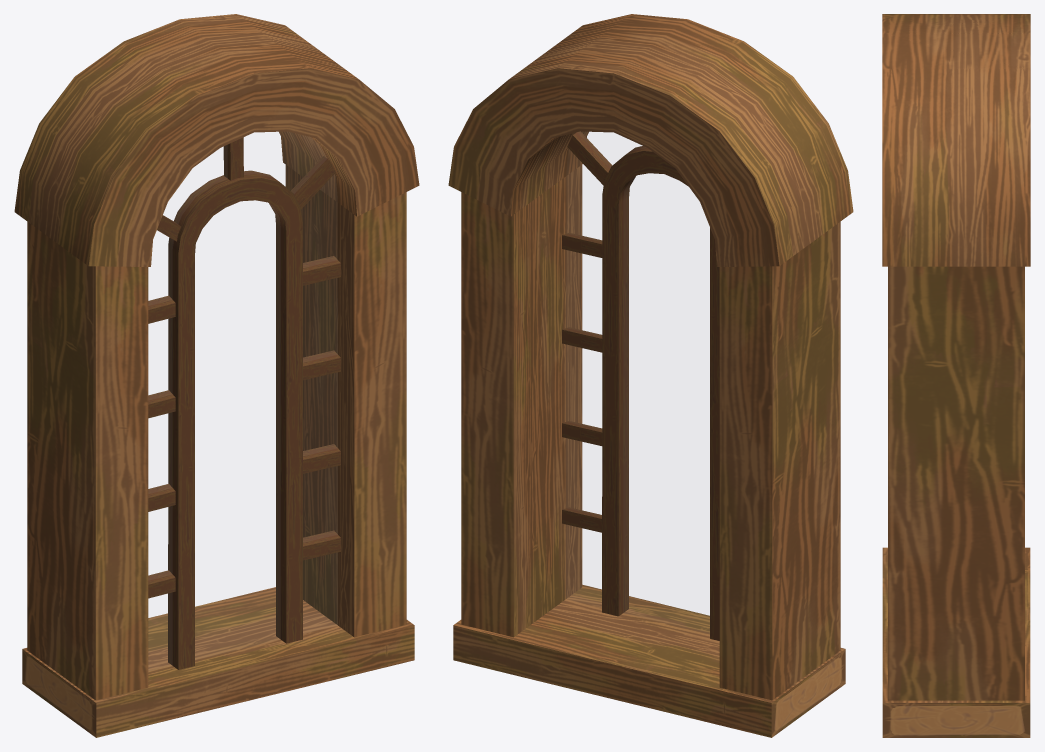
Rendered from Window_Thin_Round1.obj.
The picture shows the model from 3 angles, left to right: view 1: azimuth 30°, elevation 25°; view 2: azimuth 150°, elevation 25°; view 3: azimuth 270°, elevation 25°; orthographic projection.
Visible parts, largest first — view 1: Window_Thin_Round1; view 2: Window_Thin_Round1; view 3: Window_Thin_Round1.
Boxes of the visible parts, x1=… form: Window_Thin_Round1: x1=14, y1=14, x2=419, y2=737; Window_Thin_Round1: x1=448, y1=14, x2=853, y2=737; Window_Thin_Round1: x1=882, y1=14, x2=1030, y2=737.
Bounding box in the file's own units: 0.8876 × 1.6 × 0.3444.
